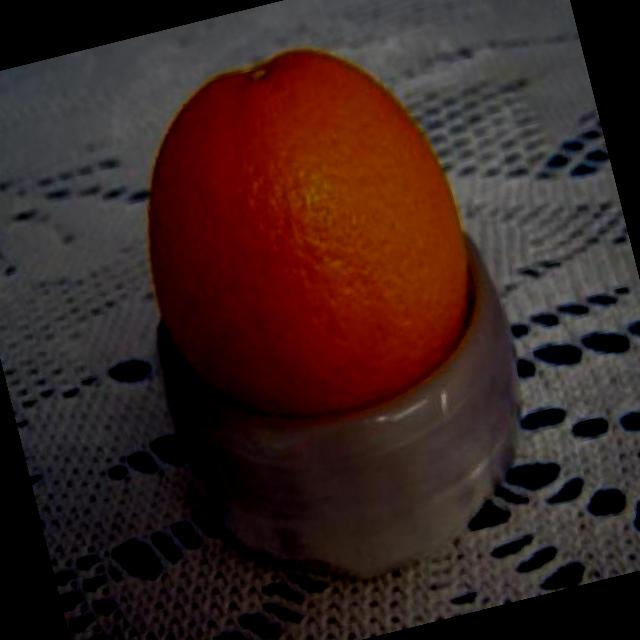Orange: (100, 17, 495, 443)
